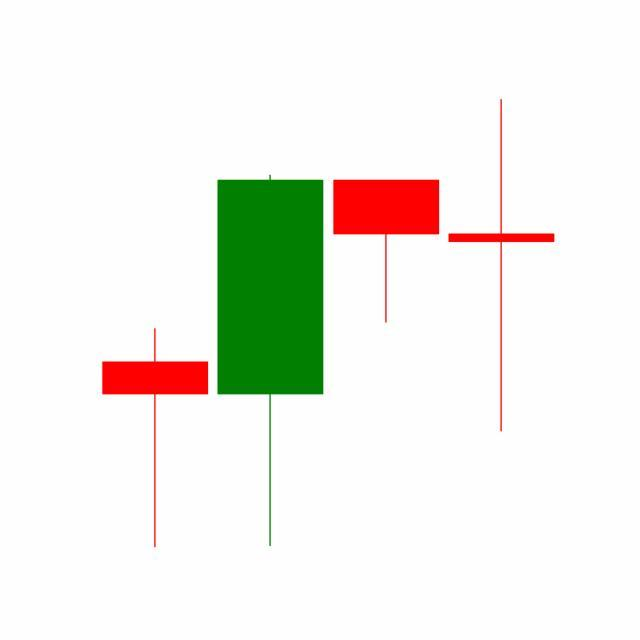Spinning Top: (444, 96, 560, 436)
